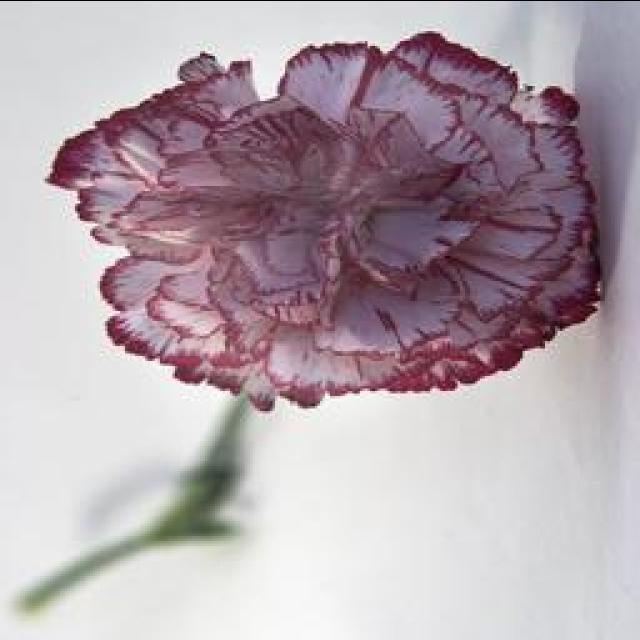carnation: (57, 0, 640, 415)
